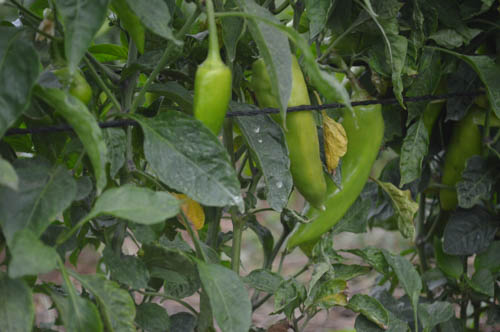ChiliPepper: (279, 98, 383, 251), (251, 55, 325, 216), (438, 117, 482, 215), (181, 67, 229, 145)
